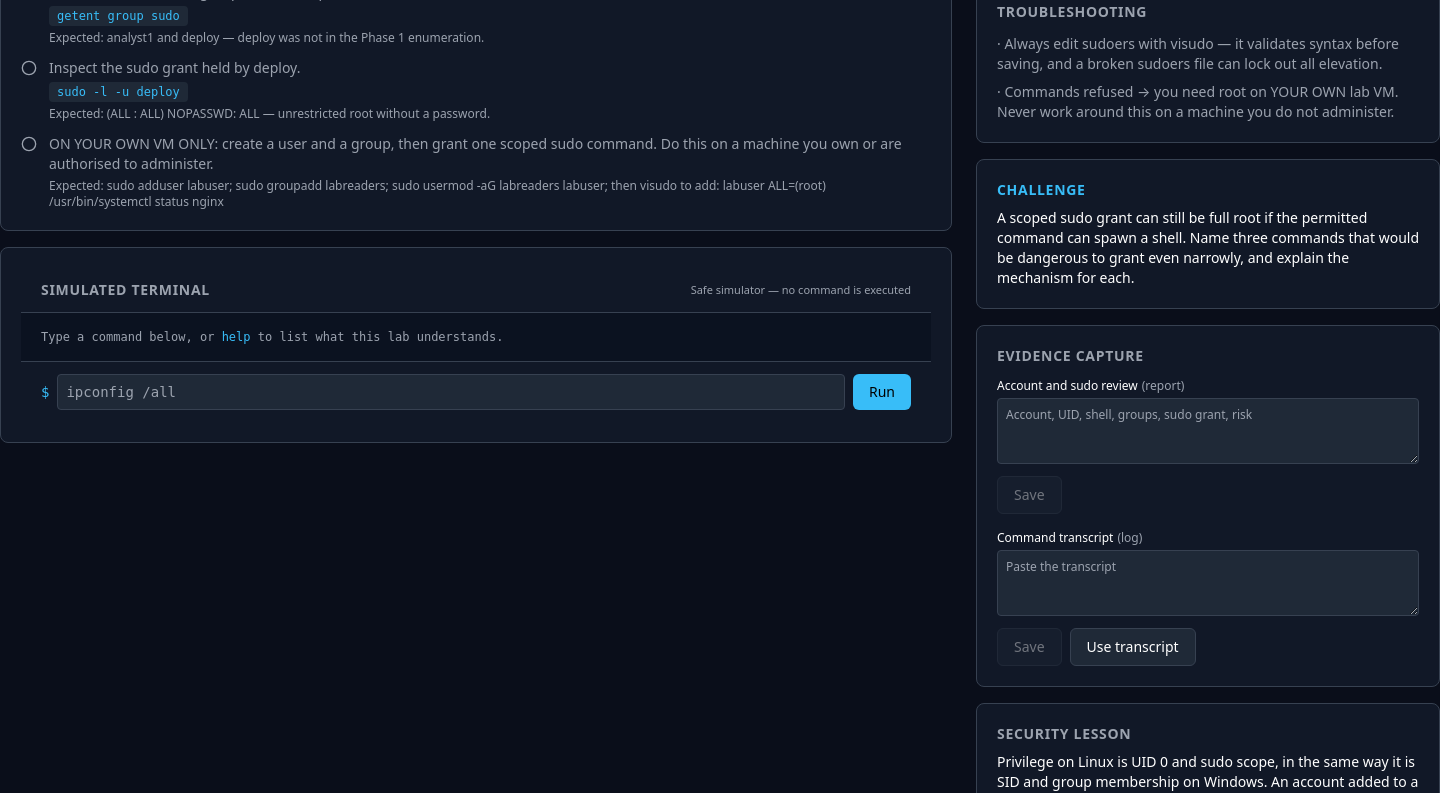
Test: Phase 9 labs and quizzes › surfaces the unrestricted sudo grant in the users lab
(page scrolled)
Type "sudo -l -u deploy" into the field named "Simulated command input" at (451, 392), box [57,374,845,410]
Then press Enter
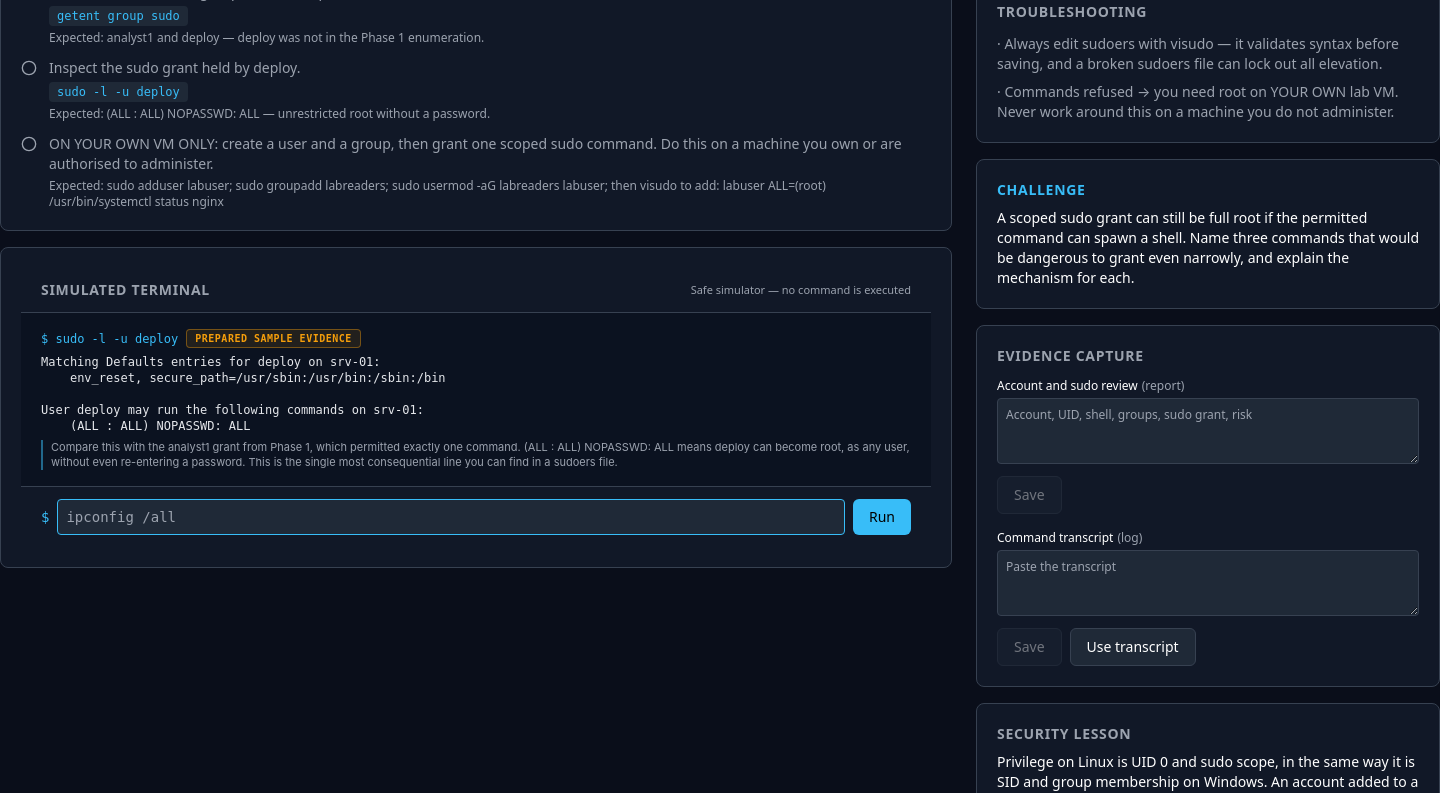
Expected: the text "Matching Defaults entries for deploy" is shown, [41,355,446,433]
